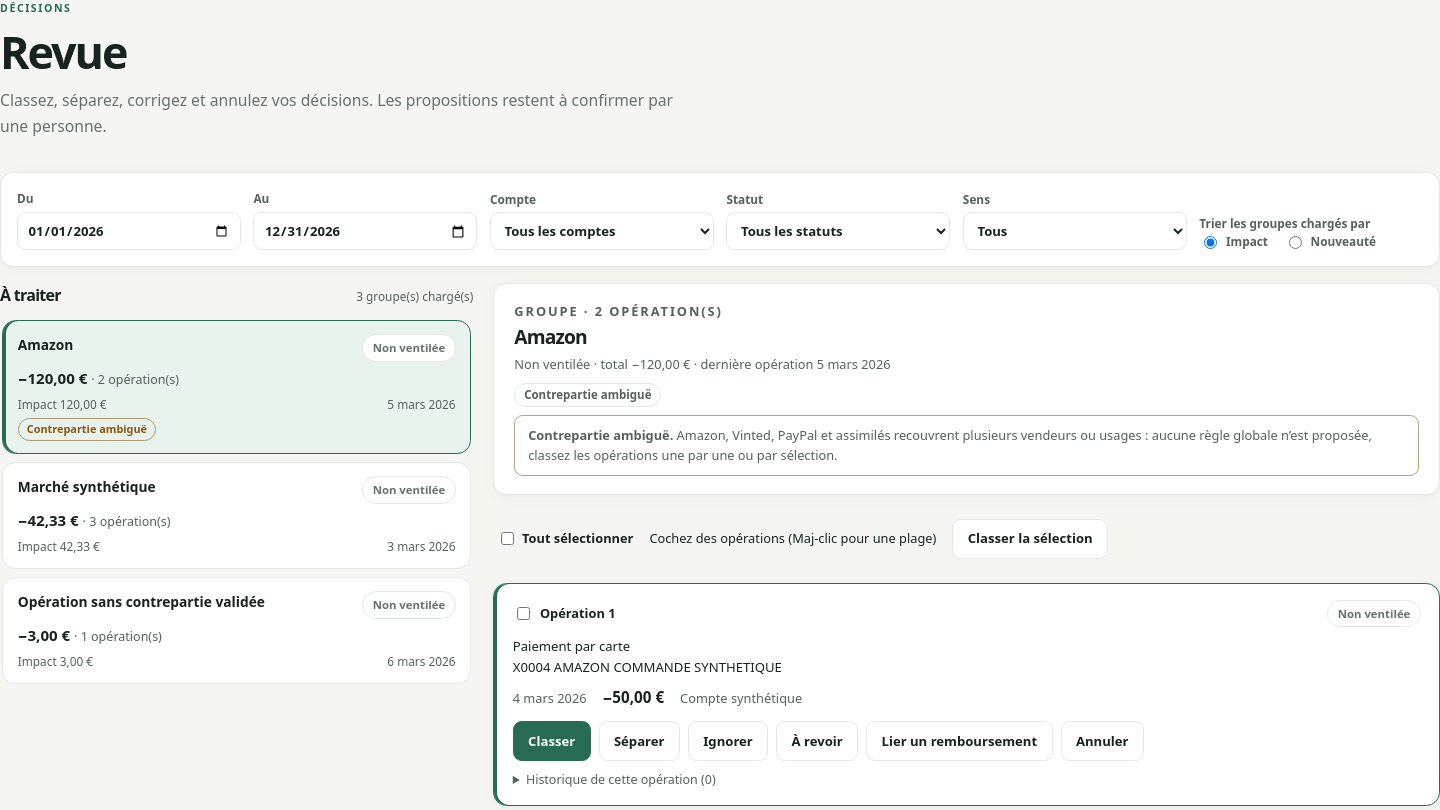
Test: UI-REVIEW-05 · règle future : brouillon inactif, simulation, consentement distinct › crée un brouillon inactif, affiche la simulation et ne propose aucune approbation sans API
This screenshot has width=1440, height=810.
Expected: the list that starts with "Amazon" is shown, [0,318,473,686]
Click the option "Marché synthétique" at (87, 487), box [2,462,471,569]
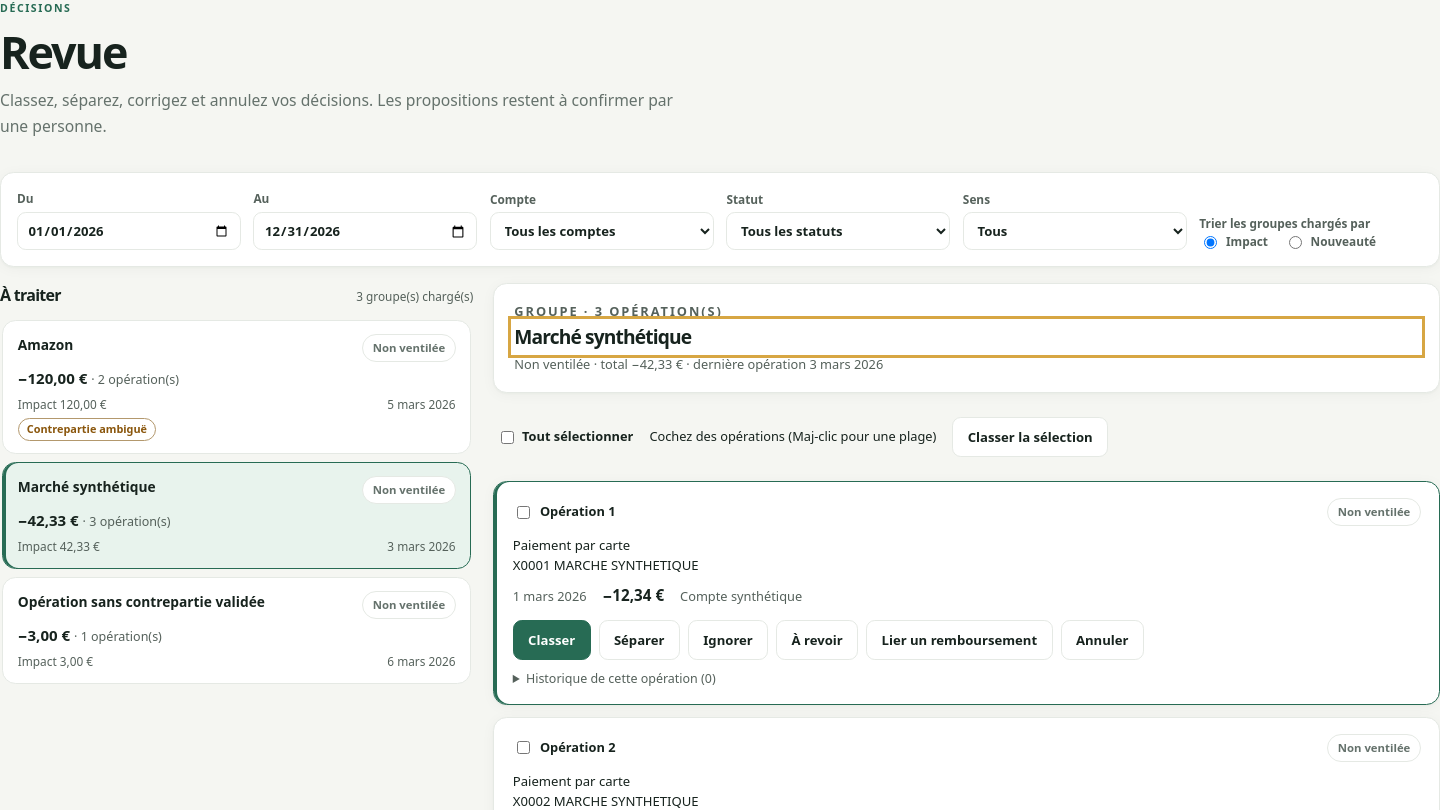
Click the button "Classer" at (552, 640), box [513,620,590,660]
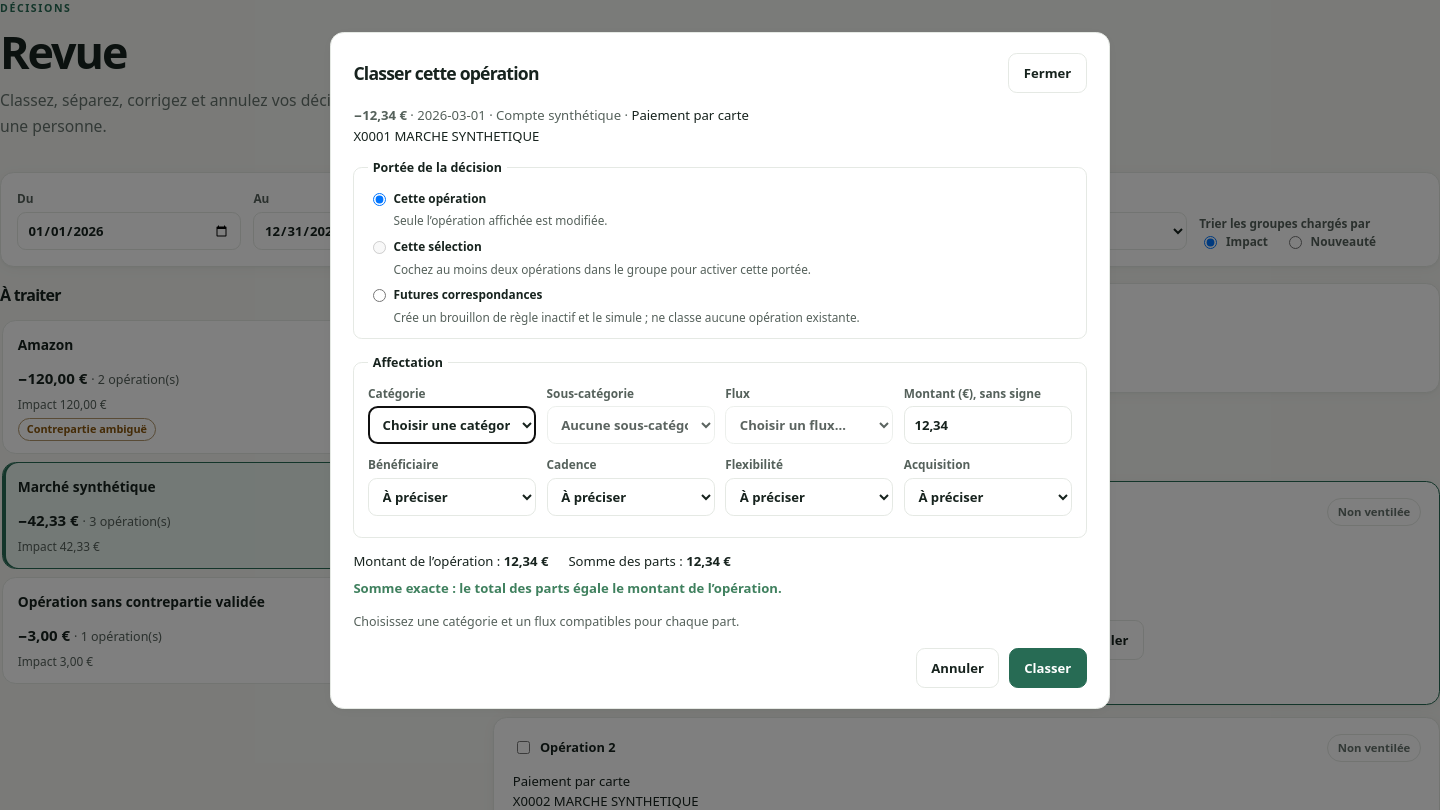
Select "Alimentation et courses" in the dropdown labelled "Catégorie" at (452, 425), box [368,406,536,444]
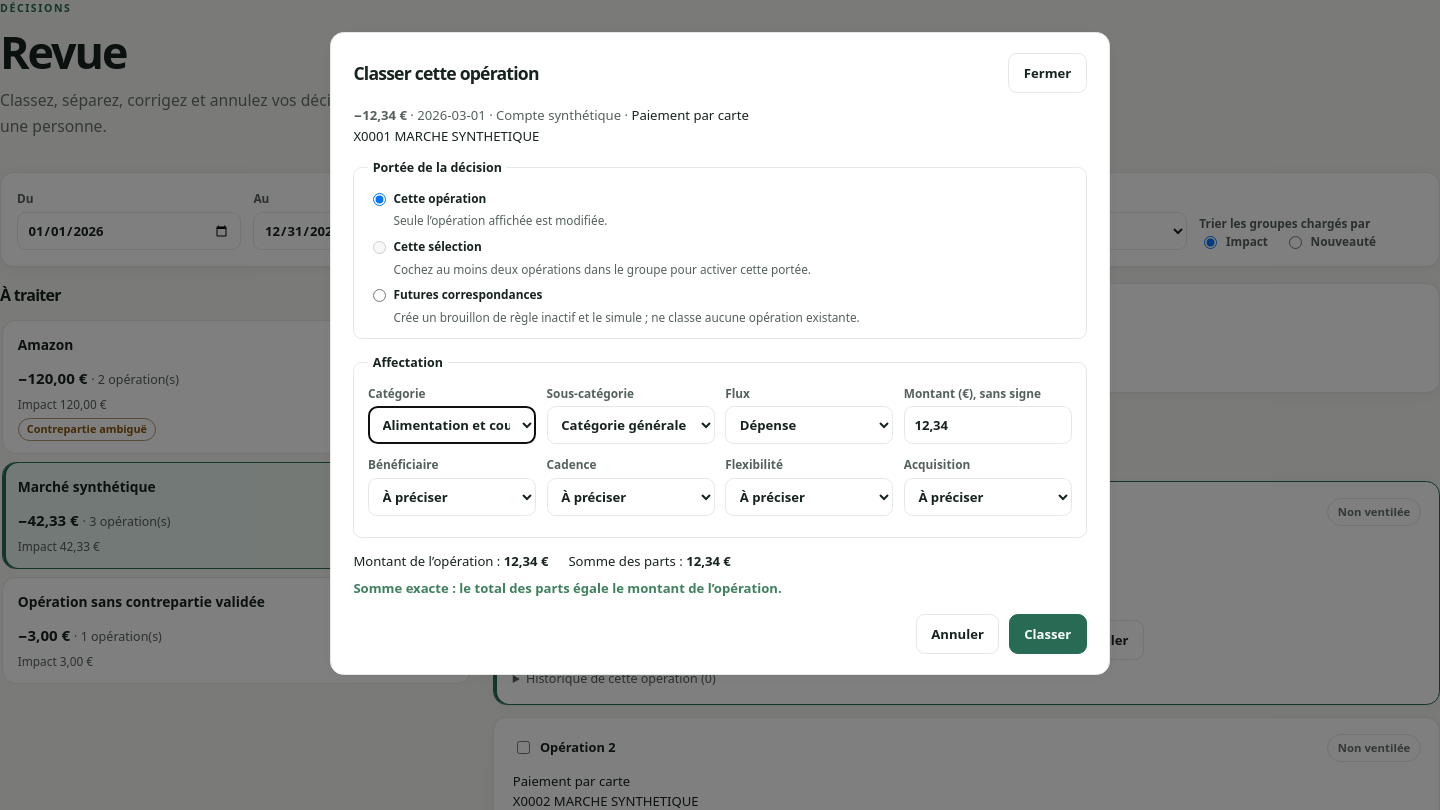
Select "Supermarché" in the dropdown labelled "Sous-catégorie" at (631, 425), box [547,406,715,444]
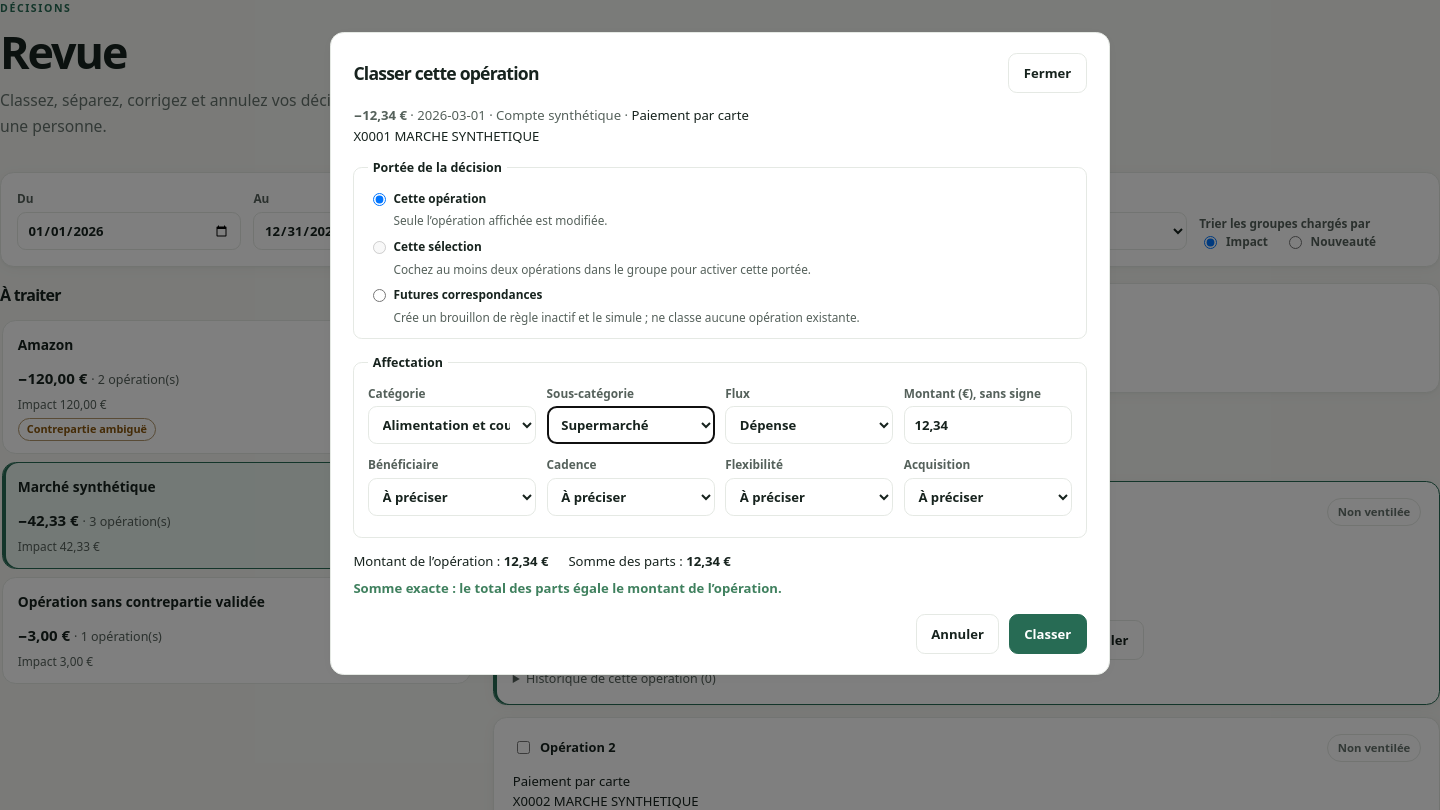
Click the radio button labelled "Futures correspondances" at (380, 296), box [373,289,386,302]
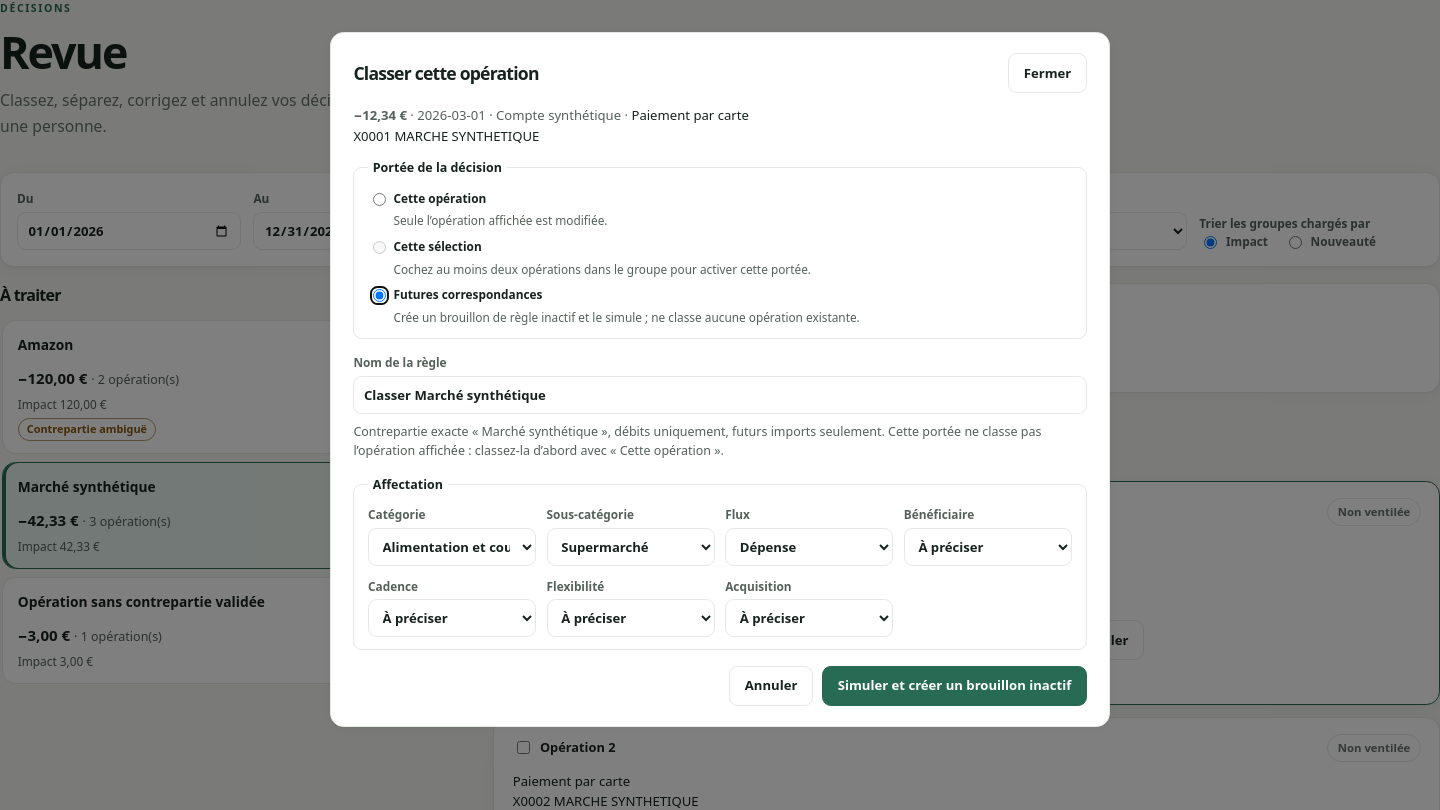
Expected: the text "ne classe pas l’opération affichée" is shown, [353,423,1041,459]
Click the button "Simuler et créer un brouillon inactif" at (954, 686), box [822,666,1087,706]
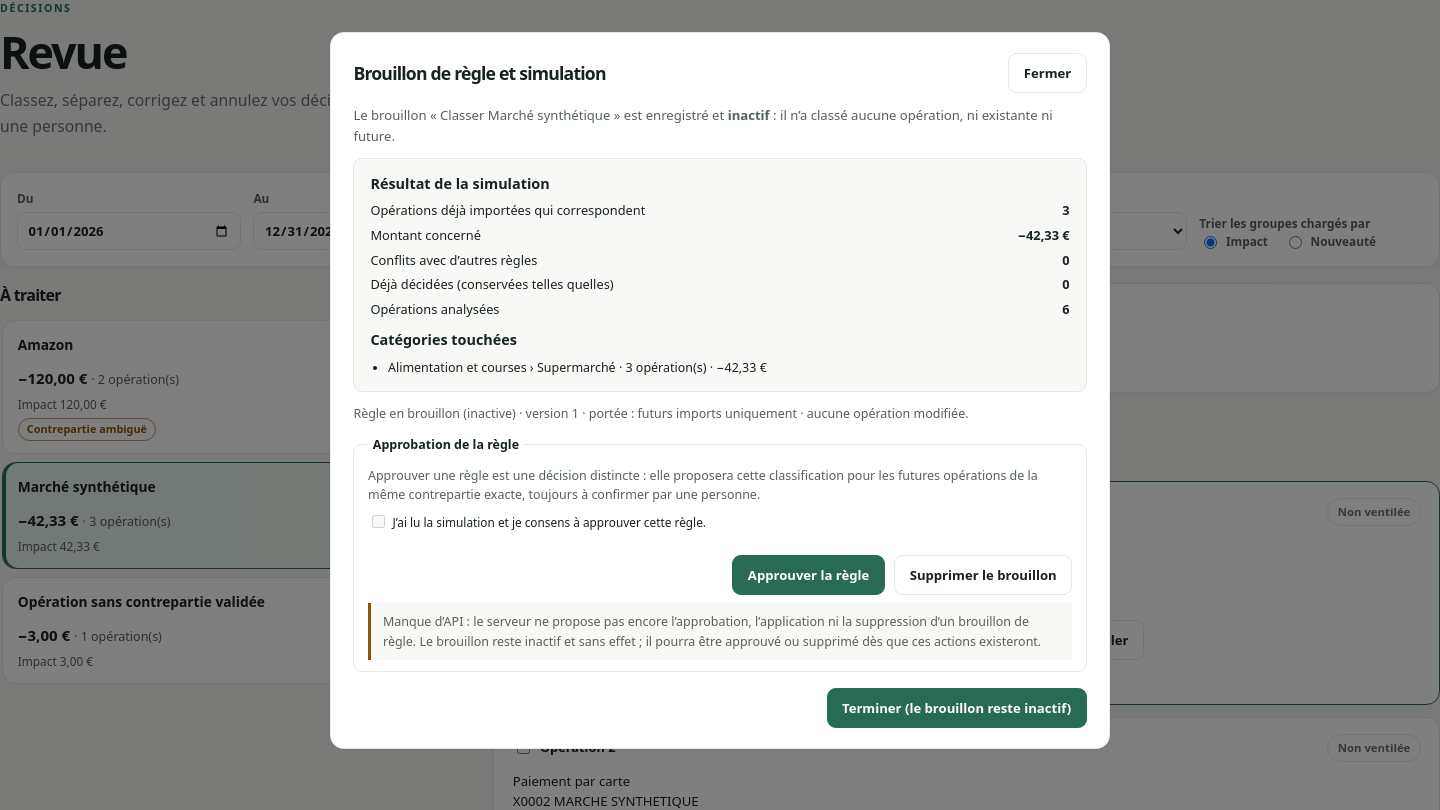
Expected: the text with test id "simulation-conflicts" reads "0", [1062,251,1070,269]
Expected: the text "en brouillon (inactive)" is shown, [389,405,516,422]
Expected: the text with test id "simulation-matched" reads "3", [1062,201,1070,219]
